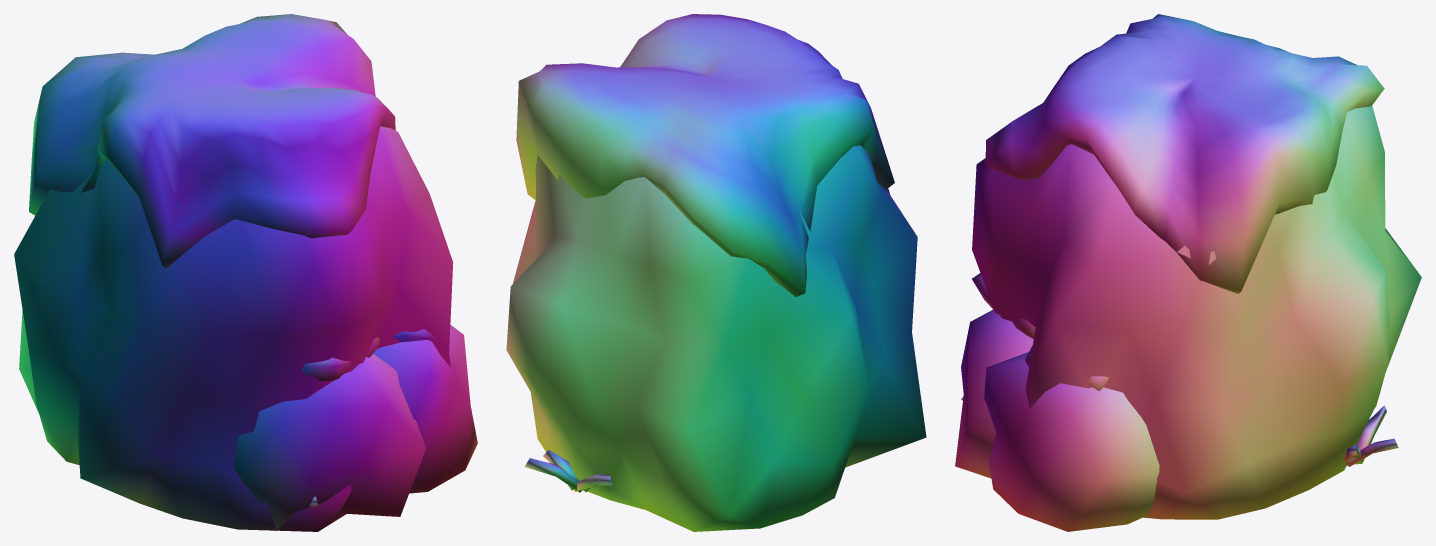
Rendered from SM_Outcrop_Plains_V1.fbx.
The picture shows the model from 3 angles, left to right: view 1: azimuth 30°, elevation 25°; view 2: azimuth 150°, elevation 25°; view 3: azimuth 270°, elevation 25°; orthographic projection.
Visible parts, largest first — view 1: SM_Outcrop_Plains_V1; view 2: SM_Outcrop_Plains_V1; view 3: SM_Outcrop_Plains_V1.
Boxes of the visible parts, box(x1,y1,x2,y2) form: SM_Outcrop_Plains_V1: box(14, 14, 477, 531); SM_Outcrop_Plains_V1: box(506, 14, 926, 531); SM_Outcrop_Plains_V1: box(955, 14, 1421, 531).
Bounding box in the file's own units: 1.46 × 1.4 × 1.59.
